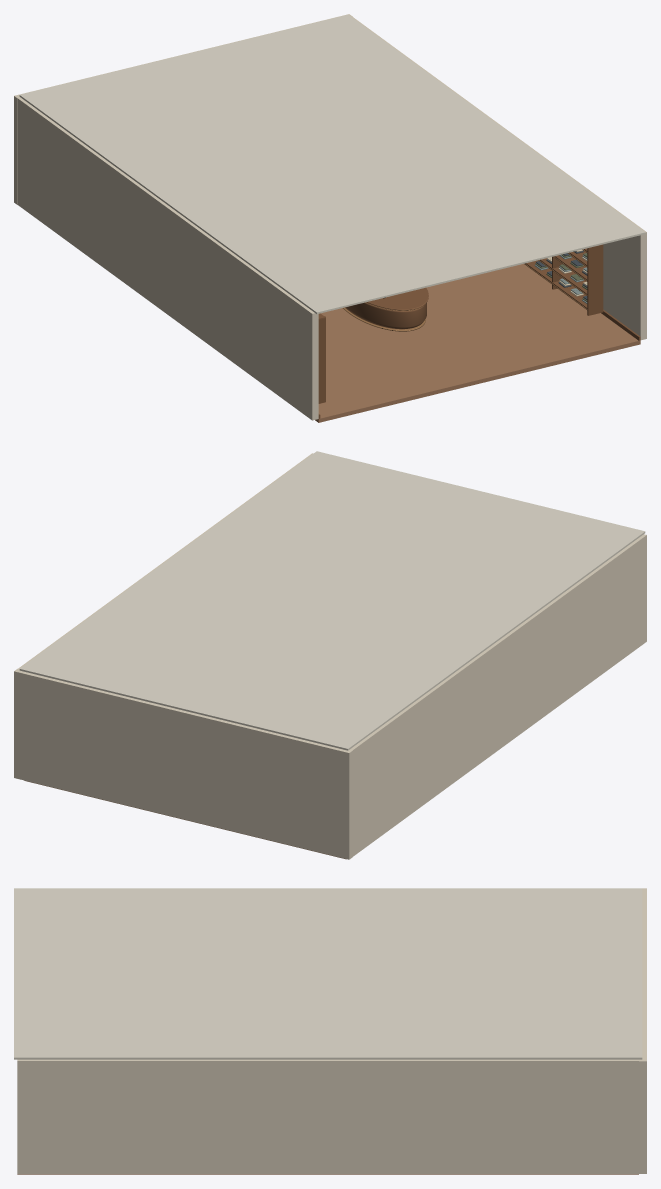
File: mf_store_shell.glb
3 views of the same model, one above another, from view 1: azimuth 30°, elevation 25°; view 2: azimuth 150°, elevation 25°; view 3: azimuth 270°, elevation 25° (orthographic). The views are drawn at different scales.
Visible parts, largest first — view 1: cutaway-ceiling, cutaway-envelope, baked-floor, fitting-occlusion.001, mf_store_shell; view 2: cutaway-ceiling, cutaway-envelope, fitting-occlusion.001; view 3: cutaway-ceiling, cutaway-envelope, baked-floor.
Boxes of the visible parts, <box> form: cutaway-ceiling: <box>19,15,645,313</box>; cutaway-envelope: <box>14,14,646,420</box>; baked-floor: <box>315,264,640,422</box>; fitting-occlusion.001: <box>18,98,113,272</box>; mf_store_shell: <box>318,244,640,418</box>; cutaway-ceiling: <box>19,451,645,750</box>; cutaway-envelope: <box>14,453,646,859</box>; fitting-occlusion.001: <box>350,681,445,856</box>; cutaway-ceiling: <box>14,888,642,1059</box>; cutaway-envelope: <box>17,888,646,1173</box>; baked-floor: <box>17,1174,638,1174</box>.
Size of the model in its own units: 12.5 by 4 by 19.34.
